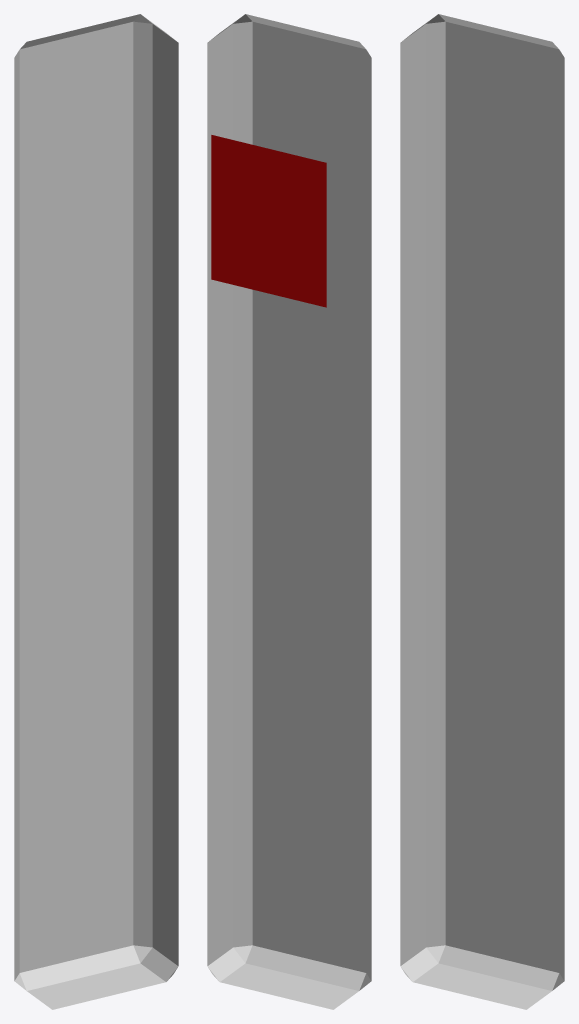
Rendered from kmpost.glb.
The picture shows the model from 3 angles, left to right: view 1: azimuth 30°, elevation 25°; view 2: azimuth 150°, elevation 25°; view 3: azimuth 330°, elevation 25°; orthographic projection.
Visible parts, largest first — view 1: kmpost; view 2: kmpost; view 3: kmpost.
Boxes of the visible parts, left/top/right/bottom form: kmpost: left=14, top=14, right=178, bottom=1009; kmpost: left=207, top=14, right=371, bottom=1009; kmpost: left=400, top=14, right=564, bottom=1009.
Bounding box in the file's own units: 0.09 × 0.59 × 0.0455.
